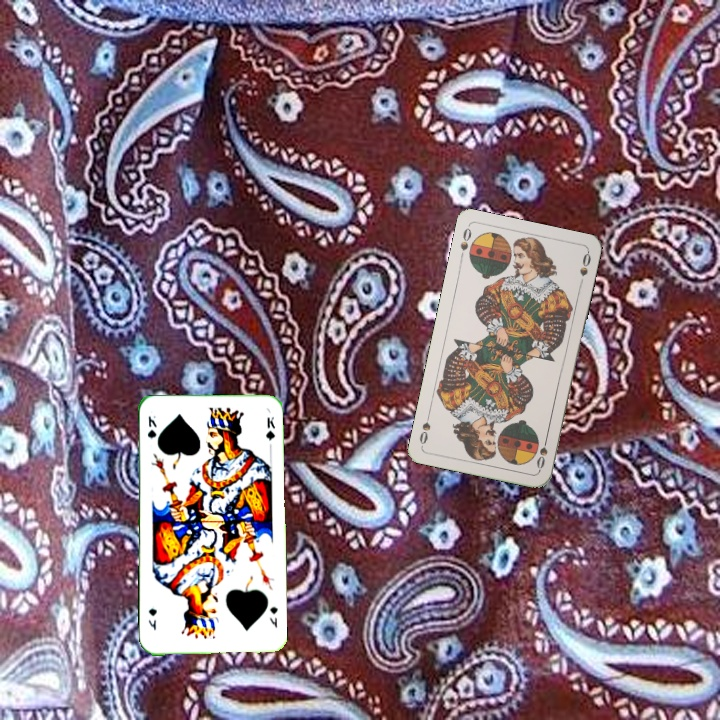GK: (144, 411, 159, 441), (266, 603, 280, 630)
SO: (456, 224, 474, 263), (533, 432, 550, 473)
